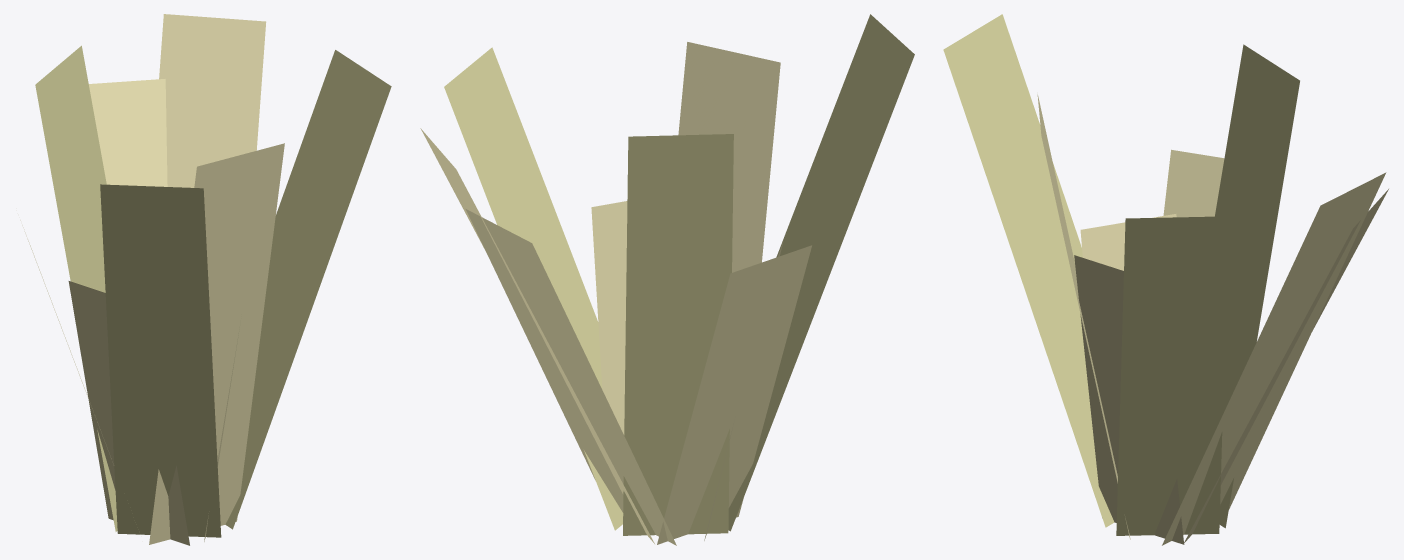
Rendered from plant_tuft_b.glb.
The picture shows the model from 3 angles, left to right: view 1: azimuth 30°, elevation 25°; view 2: azimuth 150°, elevation 25°; view 3: azimuth 270°, elevation 25°; orthographic projection. The views are drawn at different scales.
Visible parts, largest first — view 1: plant_tuft_b; view 2: plant_tuft_b; view 3: plant_tuft_b.
Boxes of the visible parts, box(x1,y1,x2,y2) form: plant_tuft_b: box(20, 14, 391, 545); plant_tuft_b: box(420, 14, 914, 545); plant_tuft_b: box(943, 14, 1388, 545).
Bounding box in the file's own units: 0.8638 × 1.01 × 0.9523.
